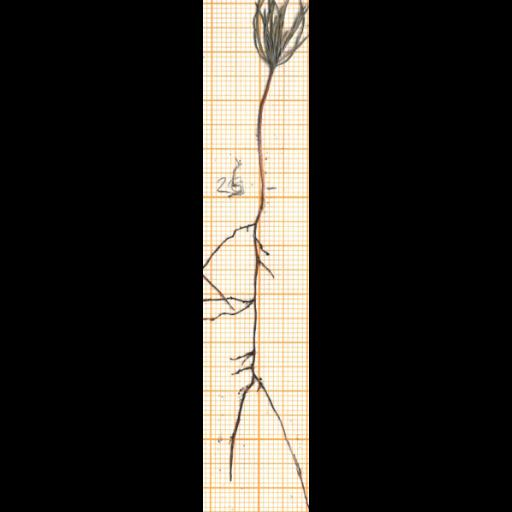flowerPinus: (253, 0, 308, 71)
rootPinus: (229, 196, 308, 506)
stemPinus: (257, 67, 273, 190)
